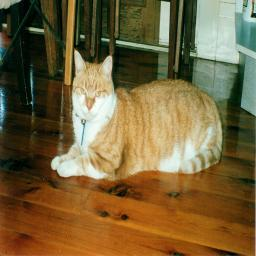catnose: (85, 101, 93, 111)
